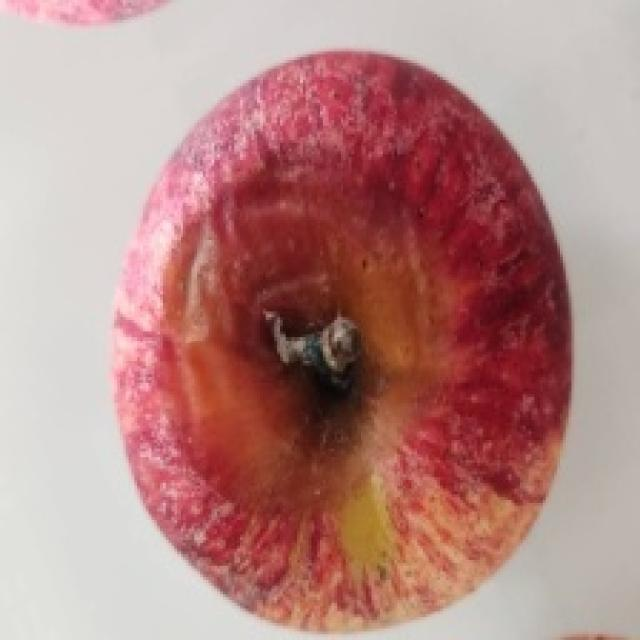rotten_apple: (110, 53, 568, 622)
